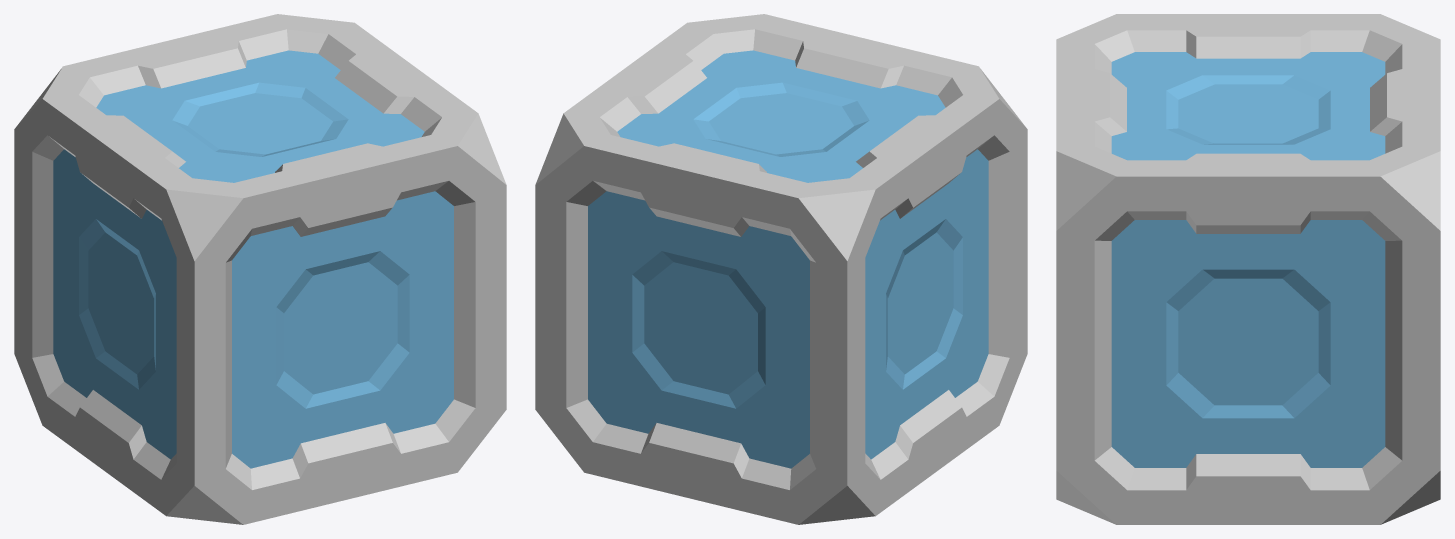
Rendered from crate blue small.fbx.
3 views of the same model, side by side, from view 1: azimuth 30°, elevation 25°; view 2: azimuth 150°, elevation 25°; view 3: azimuth 270°, elevation 25° (orthographic). The views are drawn at different scales.
Visible parts, largest first — view 1: Crate Small.005; view 2: Crate Small.005; view 3: Crate Small.005.
Boxes of the visible parts, <box> form: Crate Small.005: <box>14,14,506,524</box>; Crate Small.005: <box>535,14,1027,524</box>; Crate Small.005: <box>1056,14,1440,524</box>.
Size of the model in its own units: 50 by 50 by 50.
